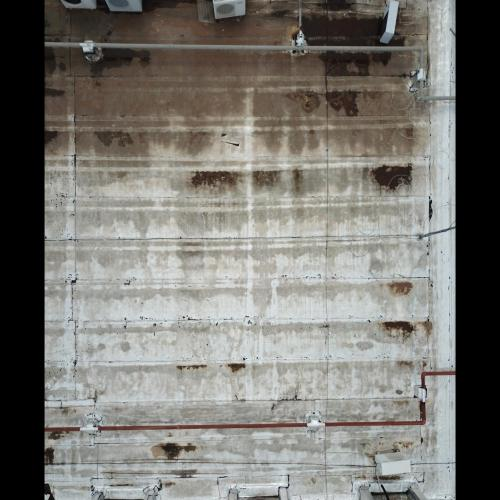conde: (378, 1, 403, 48), (373, 450, 413, 479), (100, 1, 149, 19), (212, 1, 249, 24), (52, 1, 100, 12)
